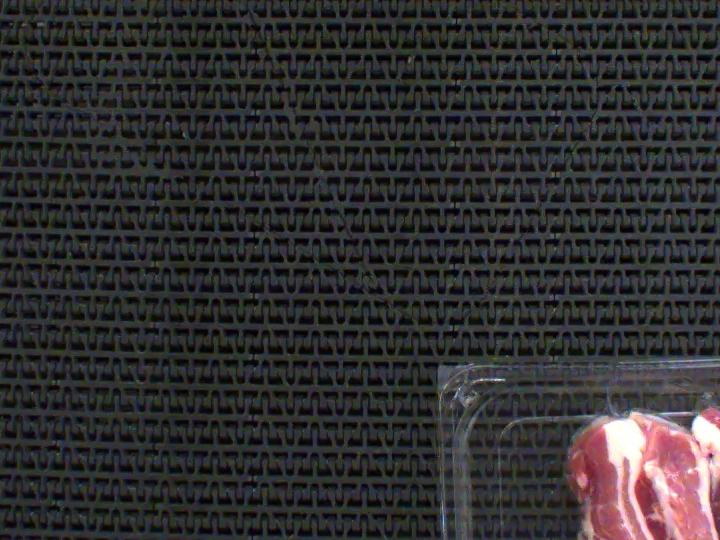packaging-error: (589, 379, 630, 420)
unsealed: (553, 387, 720, 452)
